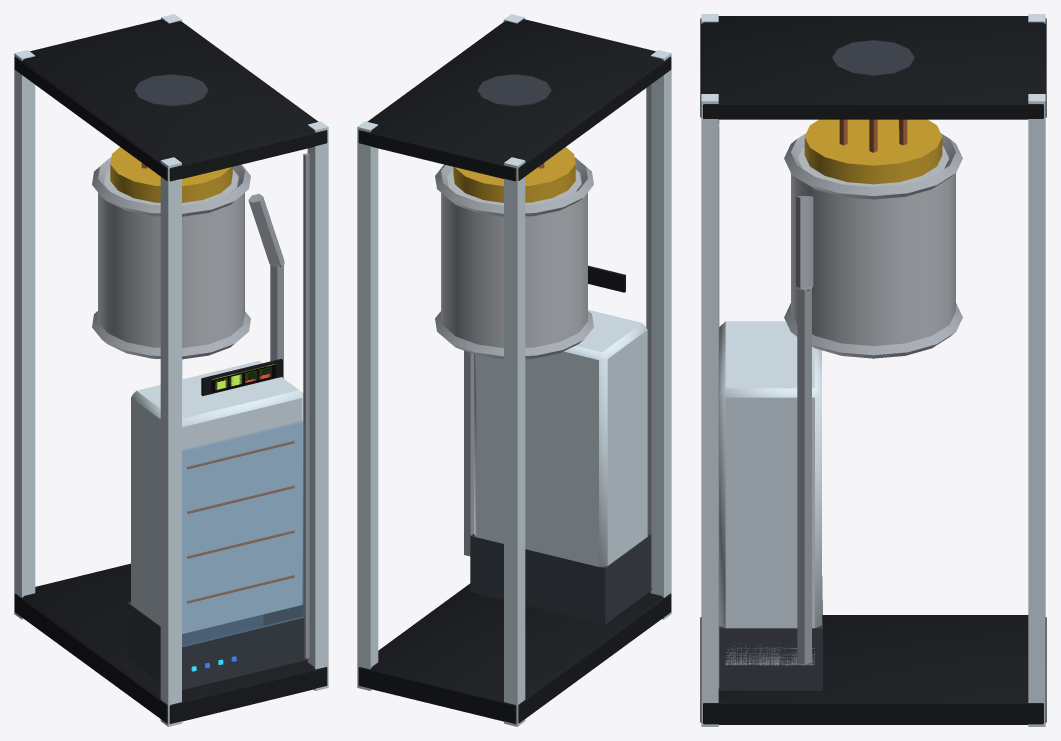
The model's file is rack_cryogenic_quantum_rack.glb.
3 views of the same model, side by side, from view 1: azimuth 30°, elevation 25°; view 2: azimuth 150°, elevation 25°; view 3: azimuth 270°, elevation 25° (orthographic). The views are drawn at different scales.
Visible parts, largest first — view 1: rack_cryogenic_quantum_rack; view 2: rack_cryogenic_quantum_rack; view 3: rack_cryogenic_quantum_rack.
Part boxes in pixels (x1=…): rack_cryogenic_quantum_rack: x1=14, y1=14, x2=328, y2=726; rack_cryogenic_quantum_rack: x1=357, y1=14, x2=671, y2=726; rack_cryogenic_quantum_rack: x1=700, y1=14, x2=1046, y2=726.
Bounding box in the file's own units: 0.608 × 2.01 × 1.01.
Materials: 11 (1 with a texture image).
